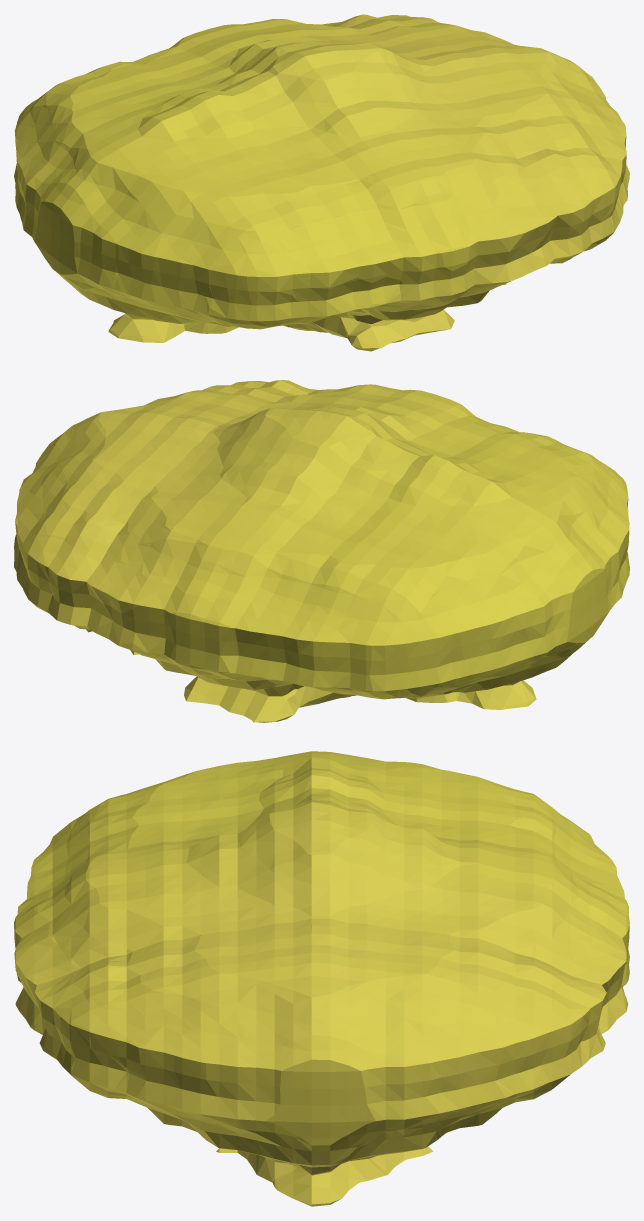
The picture shows the model from 3 angles, top to bottom: view 1: azimuth 30°, elevation 25°; view 2: azimuth 150°, elevation 25°; view 3: azimuth 270°, elevation 25°; orthographic projection. The views are drawn at different scales.
Parts seen in each view (by area): view 1: geometry_0; view 2: geometry_0; view 3: geometry_0.
Boxes of the visible parts, x1,y1,x2,y2 form: geometry_0: (14,14,629,351); geometry_0: (14,380,629,722); geometry_0: (14,751,629,1206).
Bounding box in the file's own units: 1.59 × 0.7666 × 1.42.
